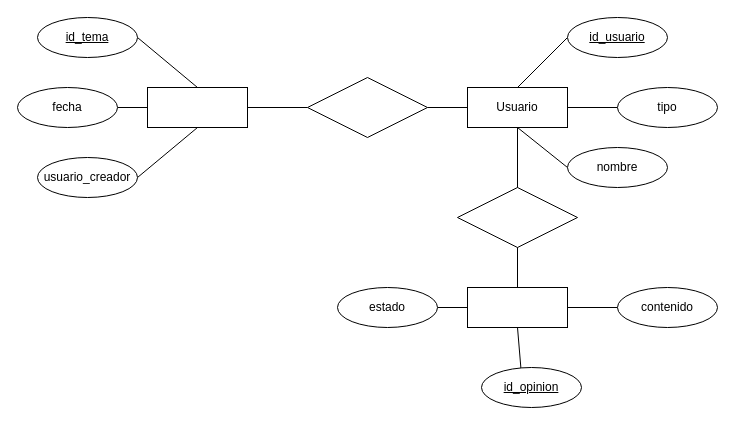
Image size: 735x425. Some labels were removed from this diagram. The box of each missing label's shape, as (x1, y1, x2, y2) in pixels:
Opinion: (466, 286, 568, 328)
selecciona: (306, 76, 428, 138)
Tema: (146, 86, 248, 128)
tiene: (456, 186, 578, 248)
